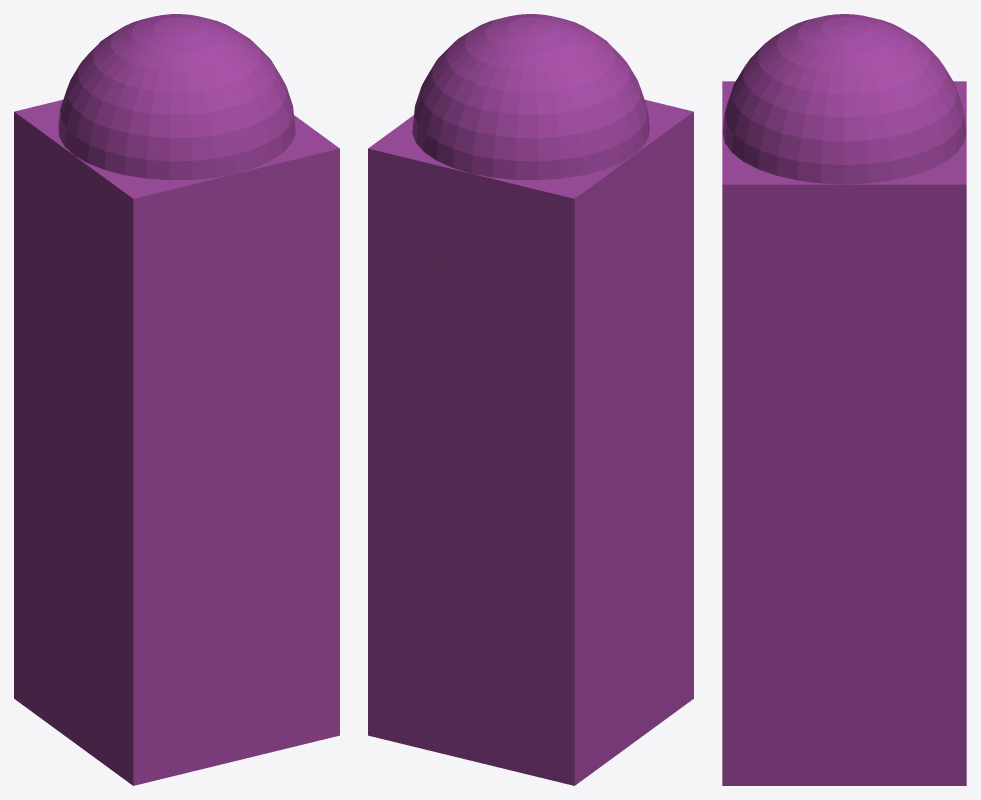
Rendered from player_left_foot_down.obj.
3 views of the same model, side by side, from view 1: azimuth 30°, elevation 25°; view 2: azimuth 150°, elevation 25°; view 3: azimuth 270°, elevation 25° (orthographic). The views are drawn at different scales.
Visible parts, largest first — view 1: 立方體.011, 球體.008_球體.001; view 2: 立方體.011, 球體.008_球體.001; view 3: 立方體.011, 球體.008_球體.001.
Part boxes in pixels (<box>): 立方體.011: <box>14,99,339,785</box>; 球體.008_球體.001: <box>58,14,295,180</box>; 立方體.011: <box>368,99,693,785</box>; 球體.008_球體.001: <box>412,14,649,180</box>; 立方體.011: <box>722,81,966,785</box>; 球體.008_球體.001: <box>722,14,966,184</box>.
Size of the model in its own units: 0.5804 by 1.86 by 0.5804.
Materials: 2 (2 with a texture image).
